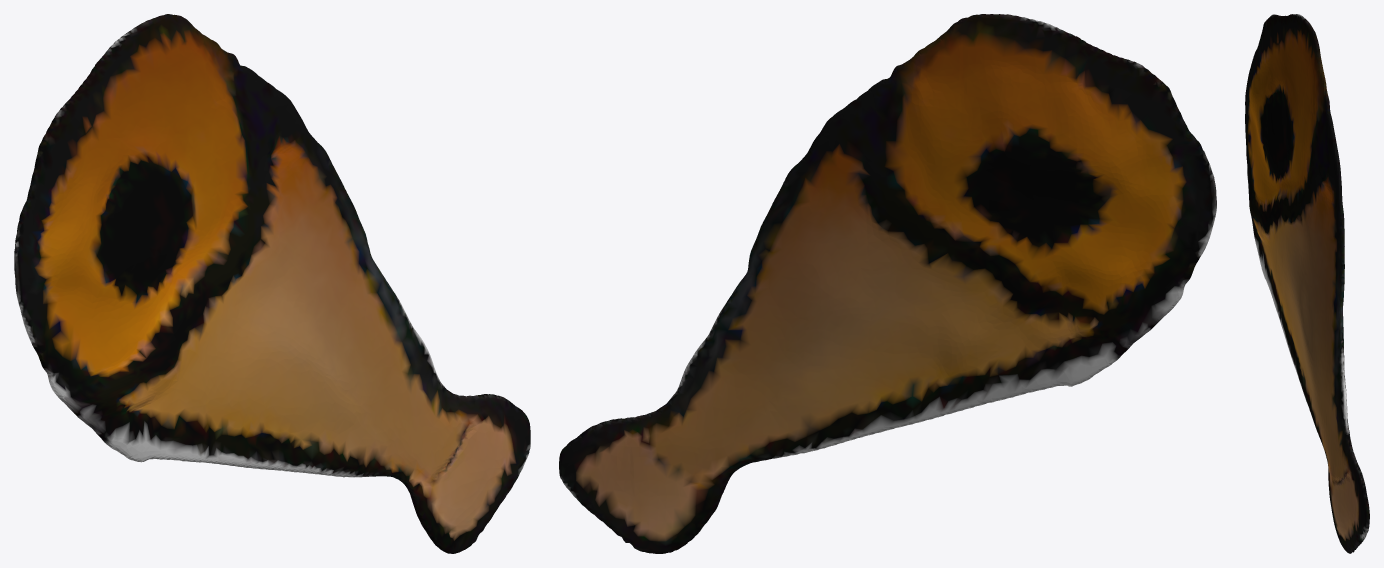
File: leg_mutton.glb
3 views of the same model, side by side, from view 1: azimuth 30°, elevation 25°; view 2: azimuth 150°, elevation 25°; view 3: azimuth 270°, elevation 25° (orthographic). The views are drawn at different scales.
Parts seen in each view (by area): view 1: geometry_0; view 2: geometry_0; view 3: geometry_0.
Part boxes in pixels (x1,y1,x2,y2): geometry_0: (14, 14, 530, 553); geometry_0: (559, 14, 1216, 553); geometry_0: (1245, 14, 1369, 553).
Bounding box in the file's own units: 0.625 × 0.6257 × 0.1693.
